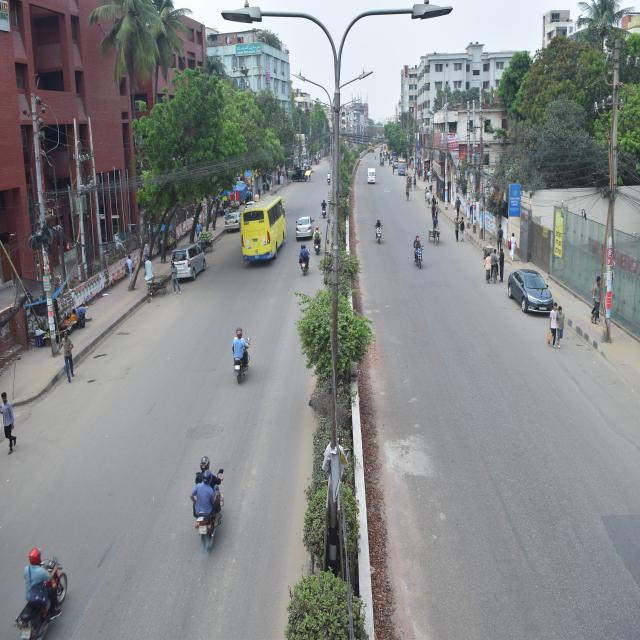bus: (242, 187, 292, 271)
car: (507, 262, 551, 314), (366, 163, 386, 190), (221, 207, 241, 232)
microbus: (170, 232, 211, 286)
motorbike: (186, 453, 230, 573), (22, 542, 71, 632), (228, 330, 248, 394), (408, 238, 428, 272), (375, 215, 384, 254), (313, 229, 323, 256), (301, 242, 307, 275), (323, 196, 326, 225)
